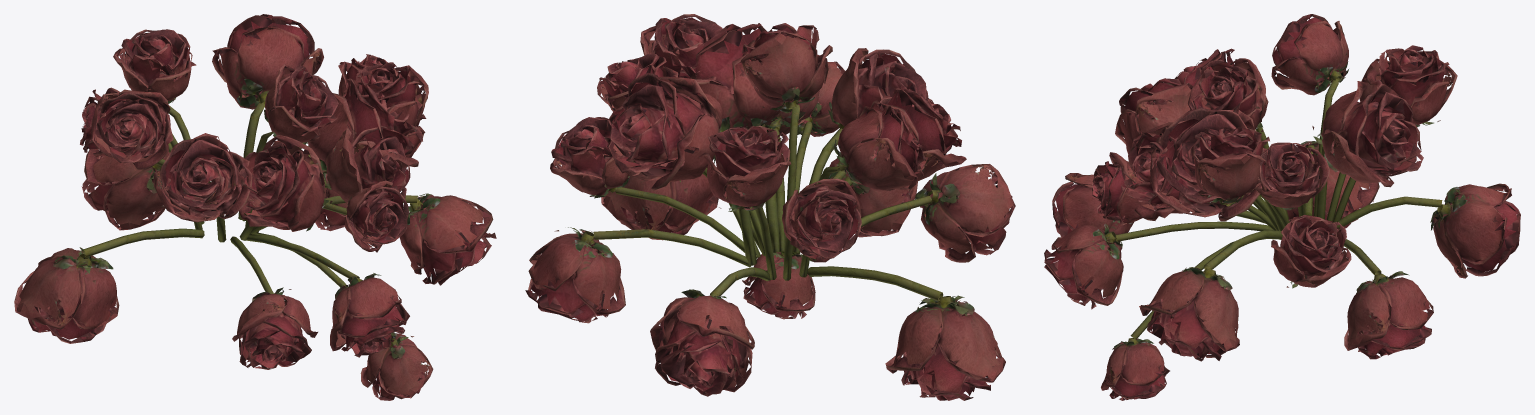
The model's file is Roses.fbx.
3 renders of one model, left to right at view 1: azimuth 30°, elevation 25°; view 2: azimuth 150°, elevation 25°; view 3: azimuth 270°, elevation 25°, orthographic. The views are drawn at different scales.
Visible parts, largest first — view 1: Roses_Low; view 2: Roses_Low; view 3: Roses_Low.
Part boxes in pixels (bbox=[...]): Roses_Low: bbox=[14, 14, 496, 400]; Roses_Low: bbox=[525, 14, 1015, 400]; Roses_Low: bbox=[1044, 14, 1520, 400].
Size of the model in its own units: 1.69 by 1.21 by 1.67.
